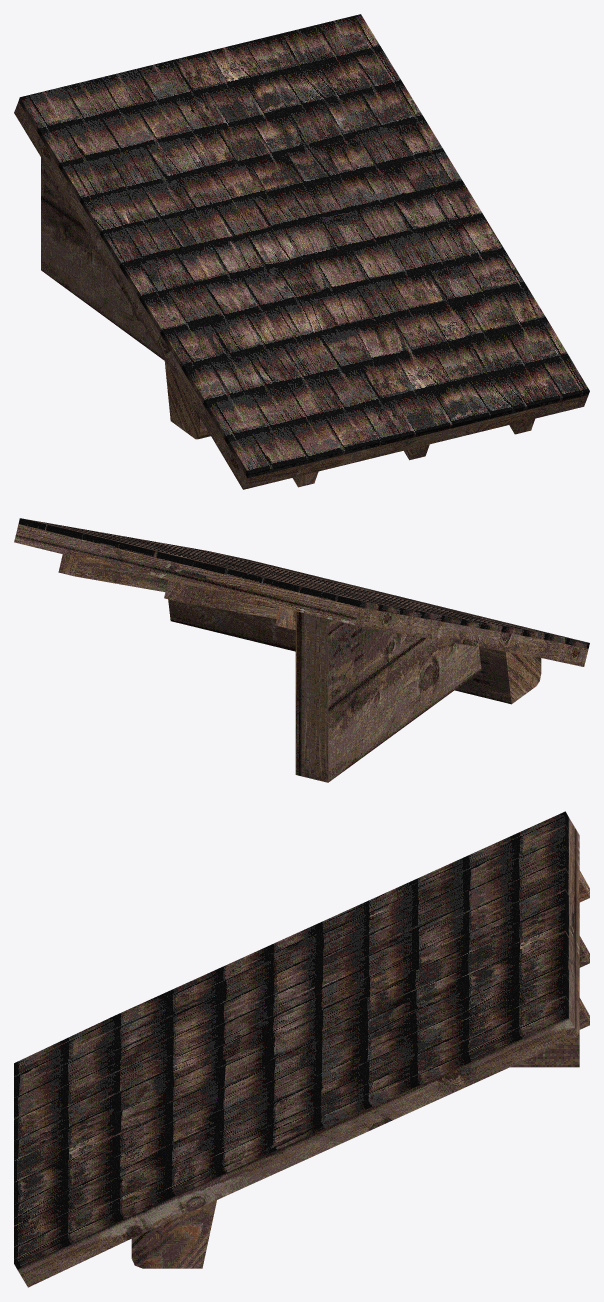
File: roof-botL.glb
3 views of the same model, one above another, from view 1: azimuth 30°, elevation 25°; view 2: azimuth 150°, elevation 25°; view 3: azimuth 270°, elevation 25° (orthographic). The views are drawn at different scales.
Parts seen in each view (by area): view 1: roof-botL.001; view 2: roof-botL.001; view 3: roof-botL.001.
Part boxes in pixels (left/top/right/bottom): roof-botL.001: left=14, top=14, right=589, bottom=489; roof-botL.001: left=14, top=518, right=589, bottom=782; roof-botL.001: left=14, top=811, right=589, bottom=1287.
Size of the model in its own units: 2.1 by 1.44 by 2.55.
Materials: 2 (2 with a texture image).
